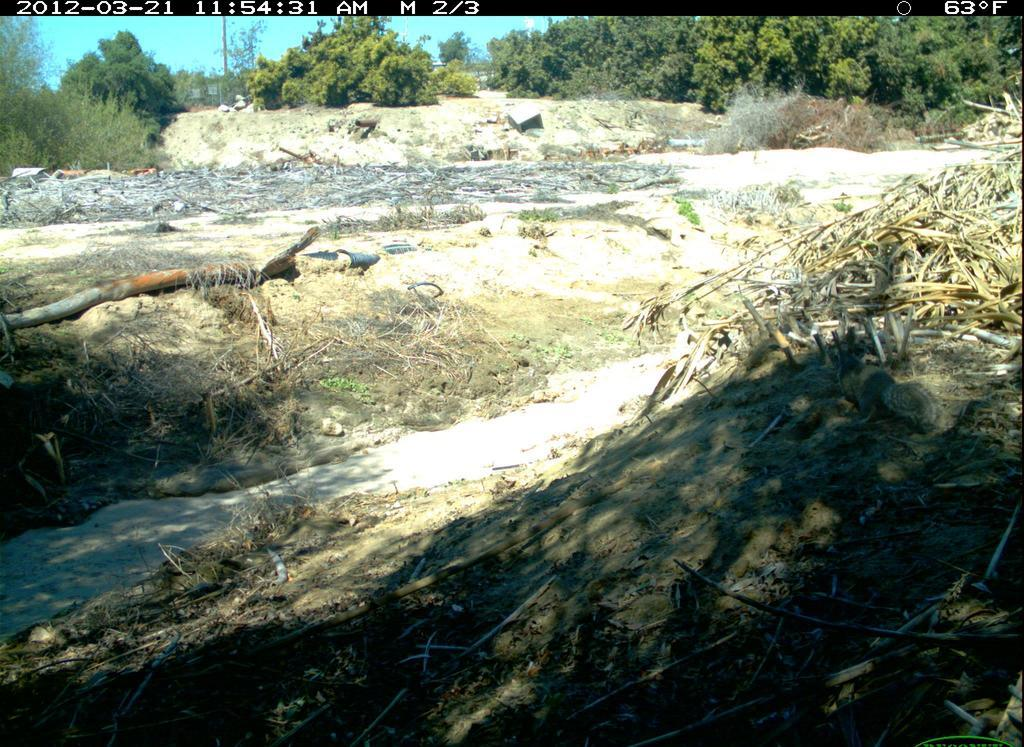squirrel: (826, 336, 961, 449)
